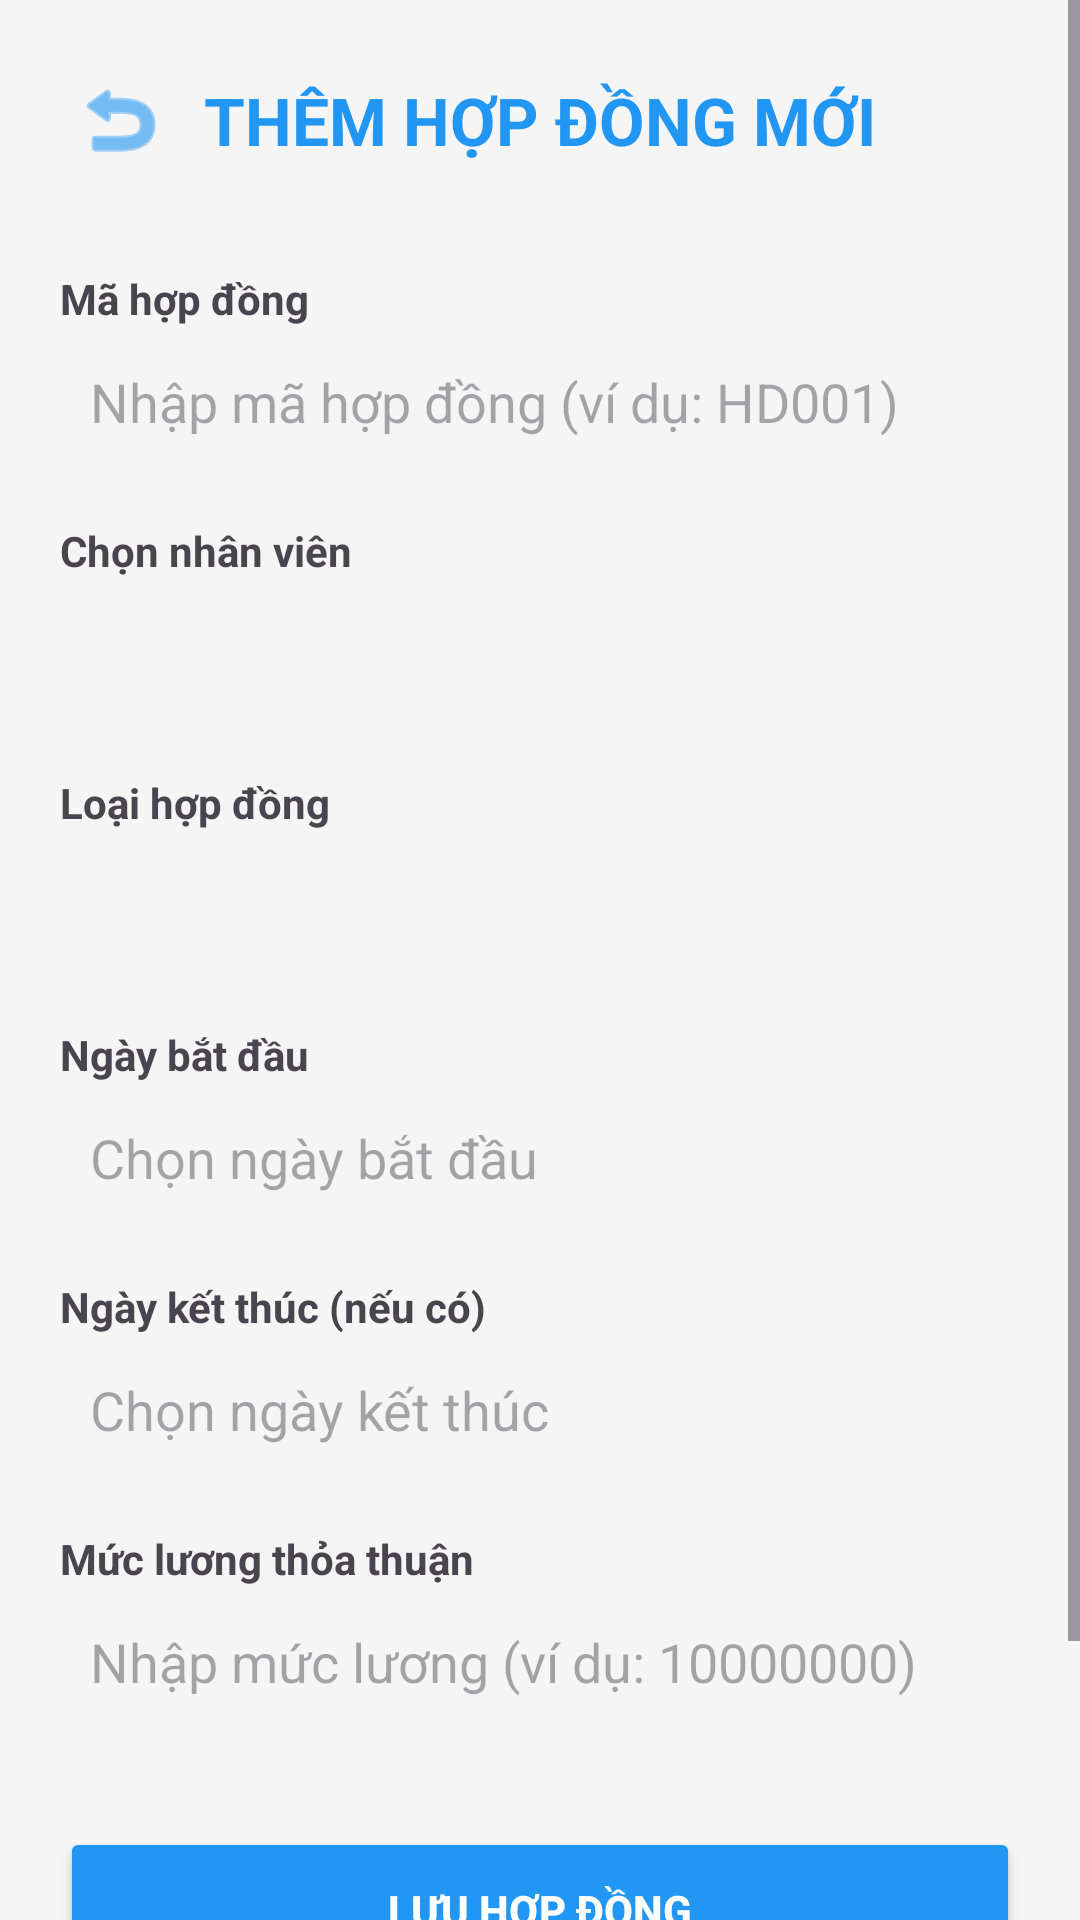

Icons on this 1080px x 1920px Android screen, each with its box as (x1, y1, x2, y2):
revert: (87, 89, 156, 152)
